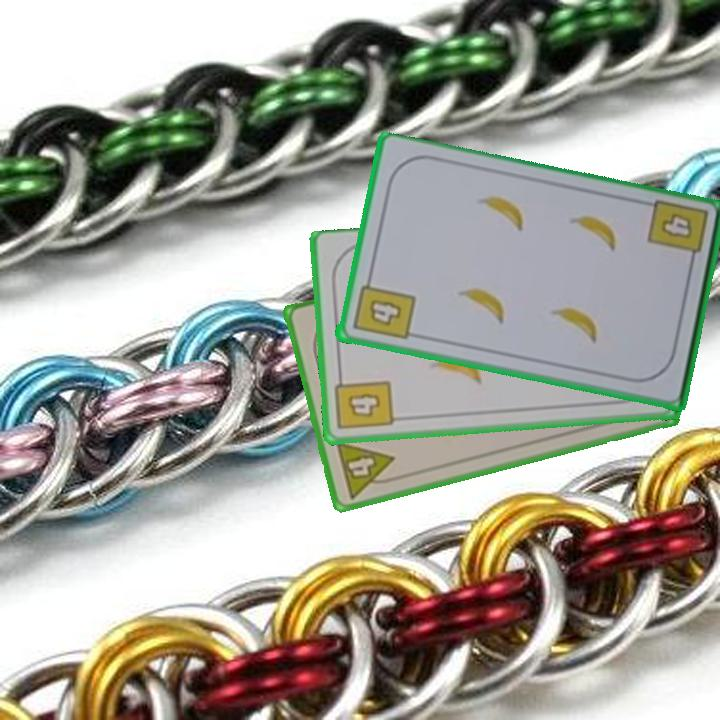4b: (348, 272, 417, 343), (332, 370, 396, 433), (656, 210, 695, 242)
4p: (332, 437, 402, 502)
